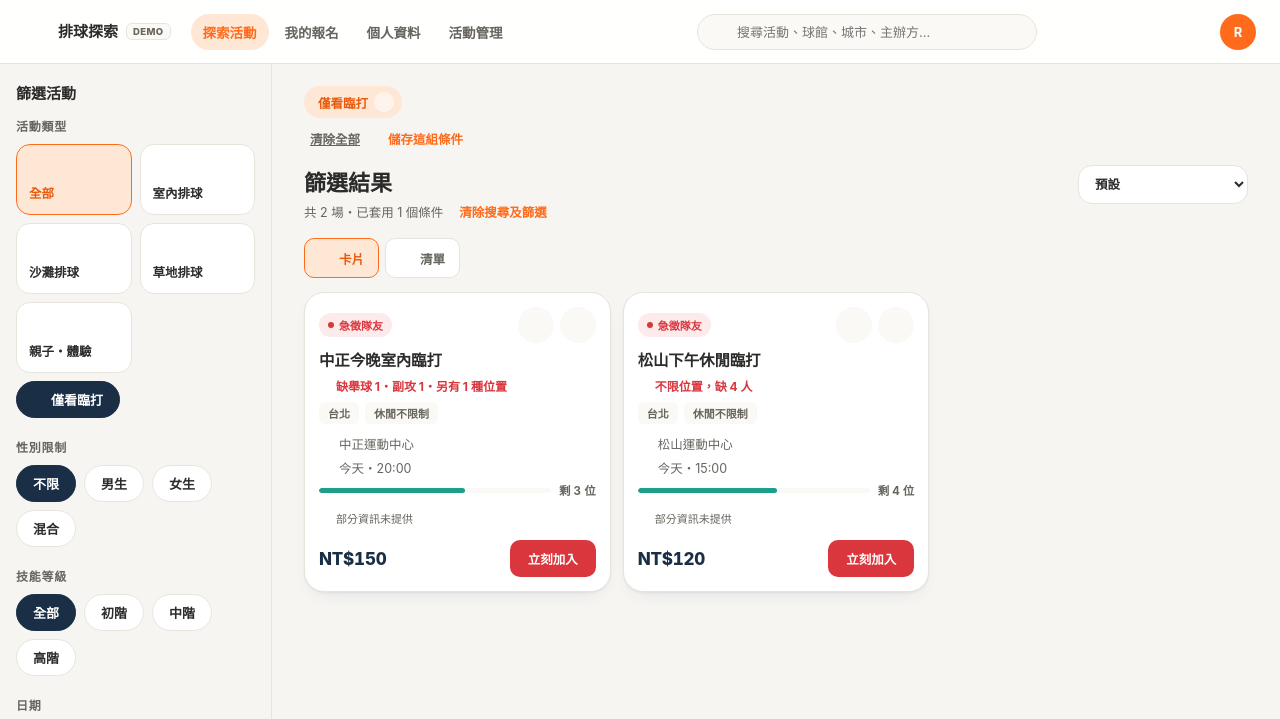
Test: Explore — urgentOnly / 今天臨打 quick entry › 僅看臨打 can be removed independently via its own active-filter chip
Click the button with aria-label "移除僅看臨打篩選" at (353, 102), box [304,86,402,118]
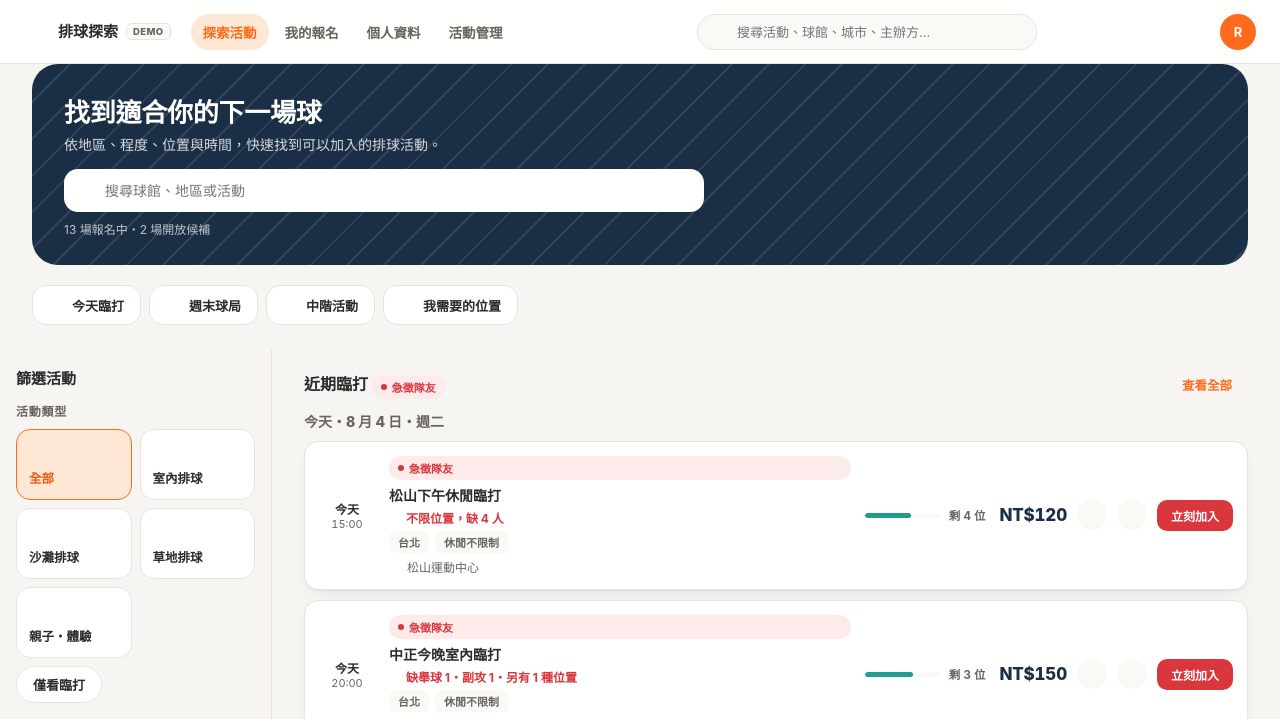
Expected: the button "移除僅看臨打篩選" is gone
